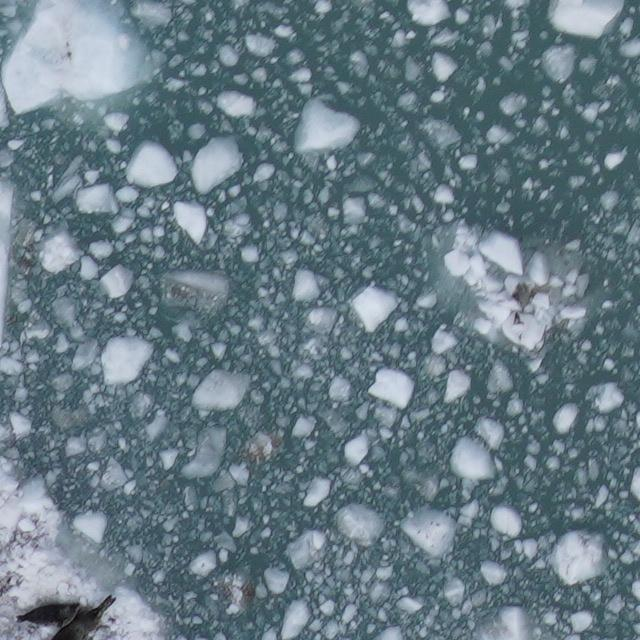seal: (45, 592, 119, 640), (13, 597, 86, 632)
